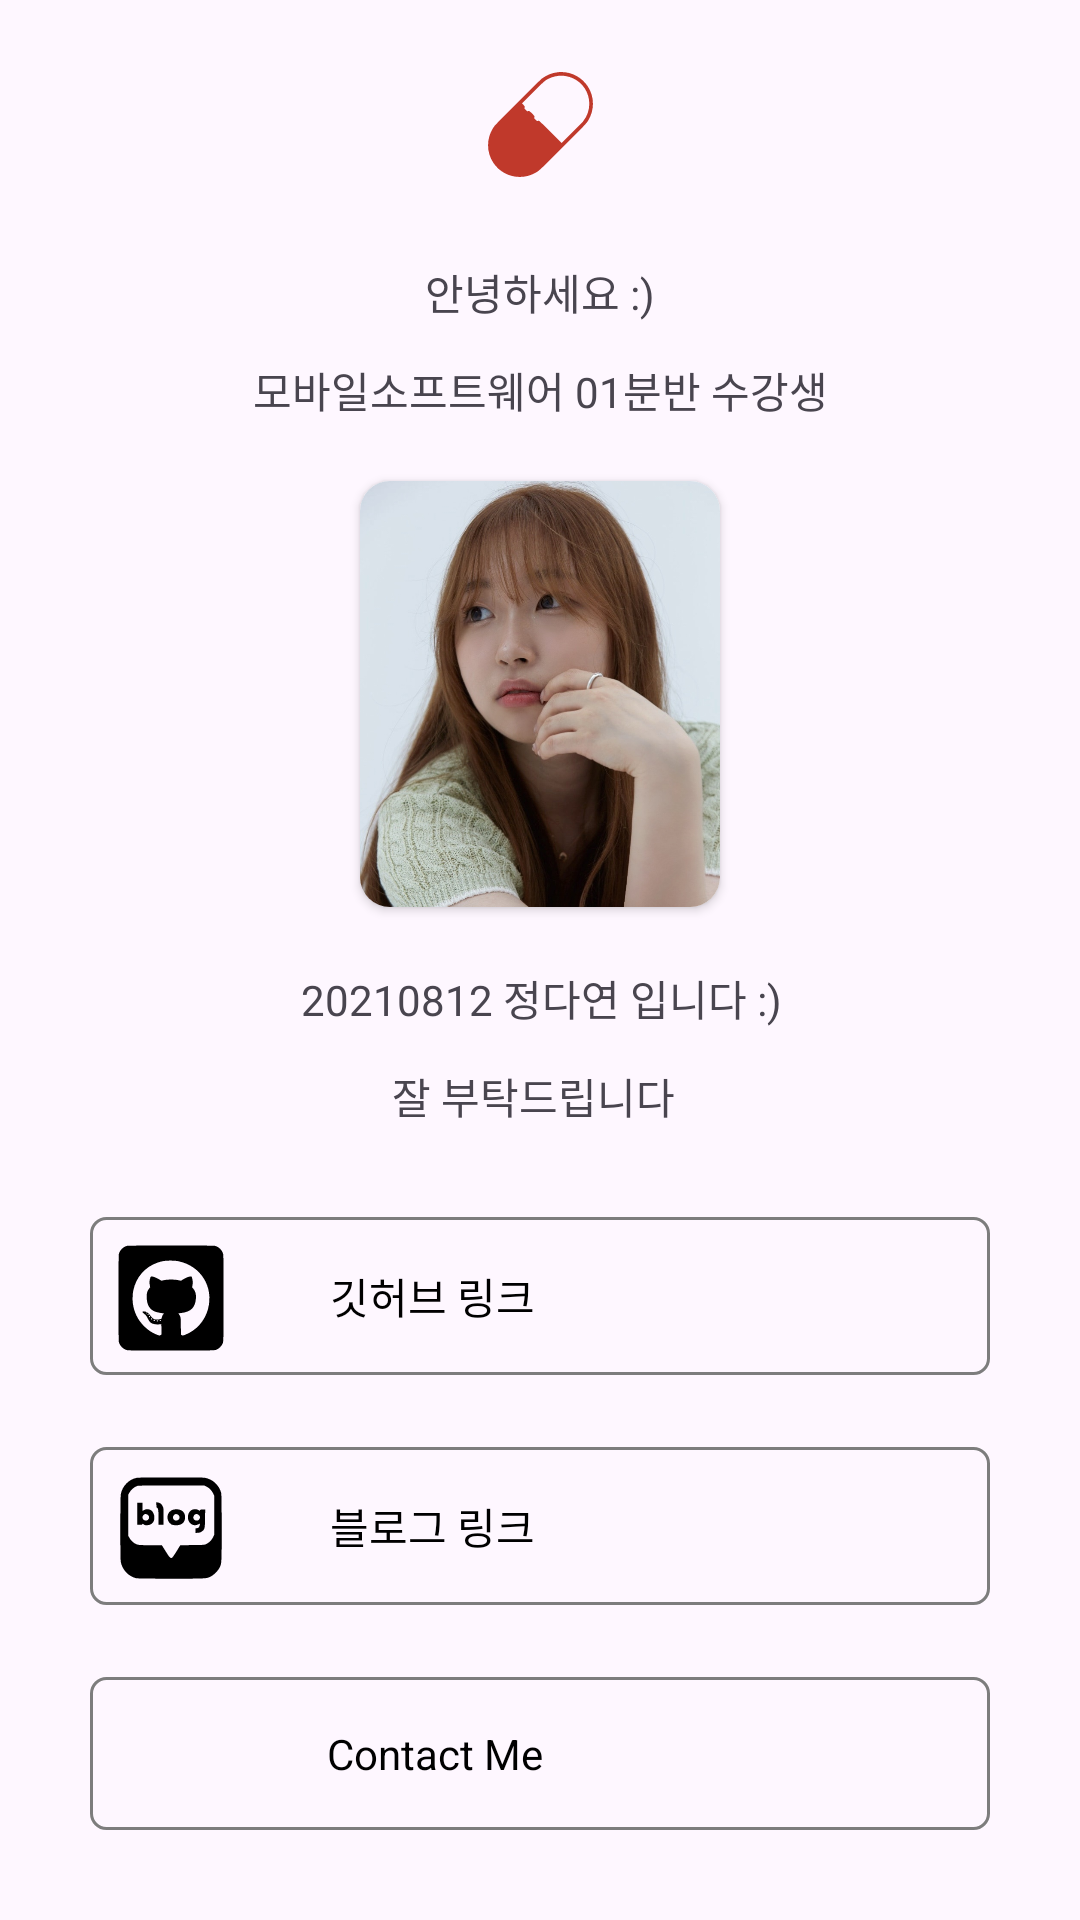

Icon bounding boxes for this 1080x1920 phone screenshot, format (x1, y1, x2, y2):
capsules: (488, 72, 593, 177)
